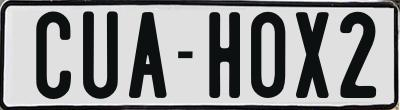0: (249, 9, 288, 97)
2: (338, 12, 380, 104)
A: (127, 12, 166, 99)
C: (33, 11, 72, 105)
H: (209, 11, 245, 102)
U: (83, 10, 119, 98)
X: (296, 11, 334, 102)
